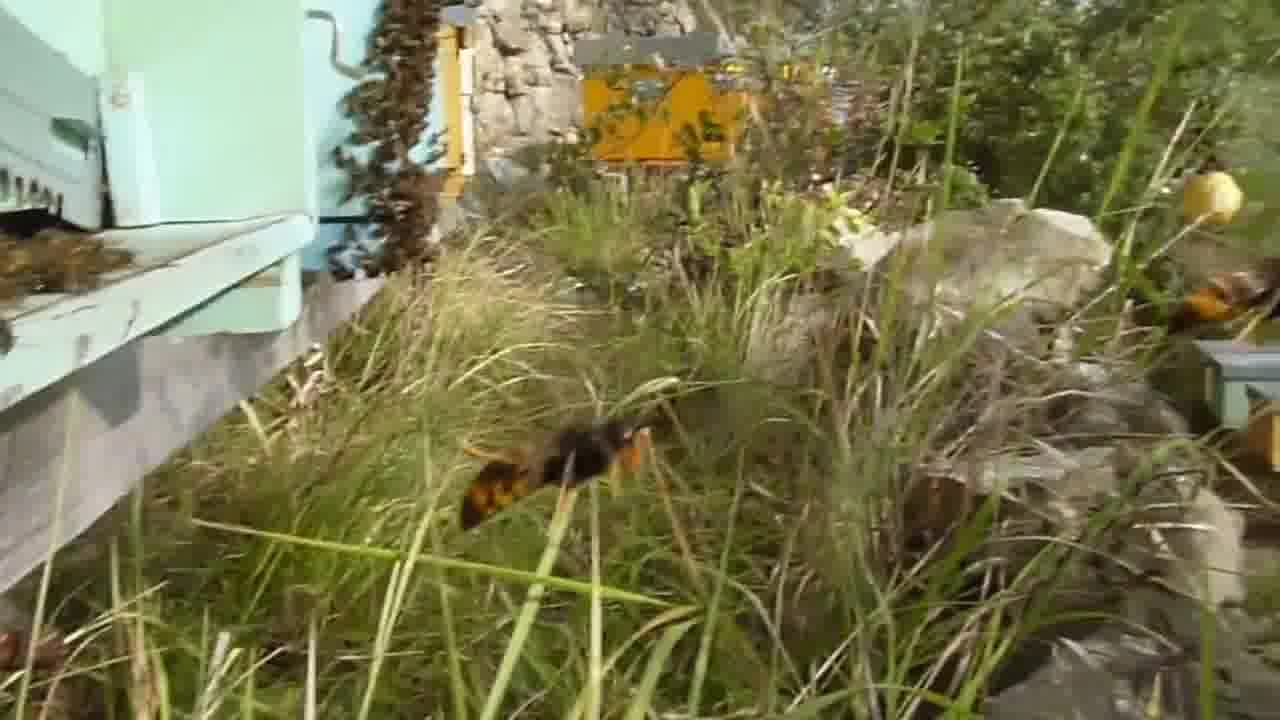bee: (335, 112, 423, 213), (357, 1, 428, 106), (330, 224, 421, 285)
hornet: (441, 396, 688, 543)
